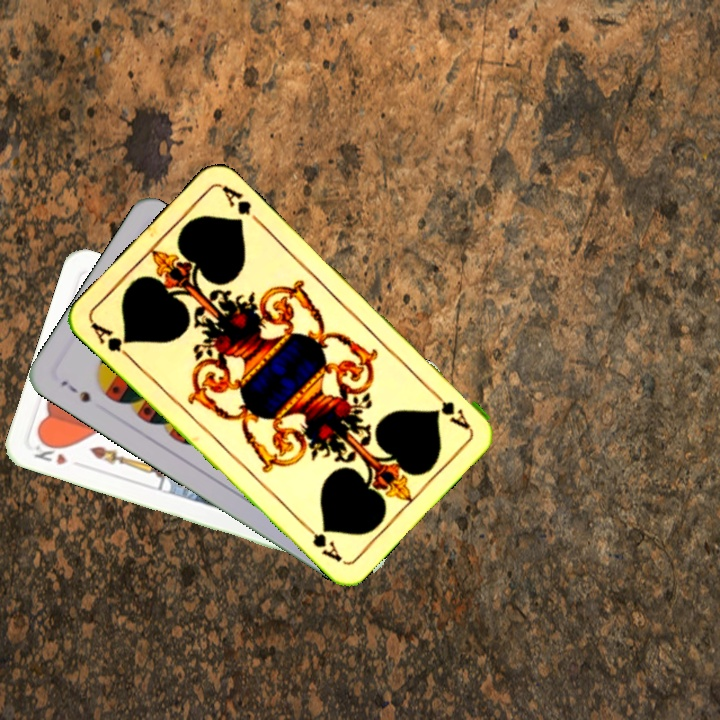GA: (426, 385, 473, 433), (87, 319, 136, 364)
HK: (30, 436, 70, 468)
S7: (57, 376, 93, 406)
